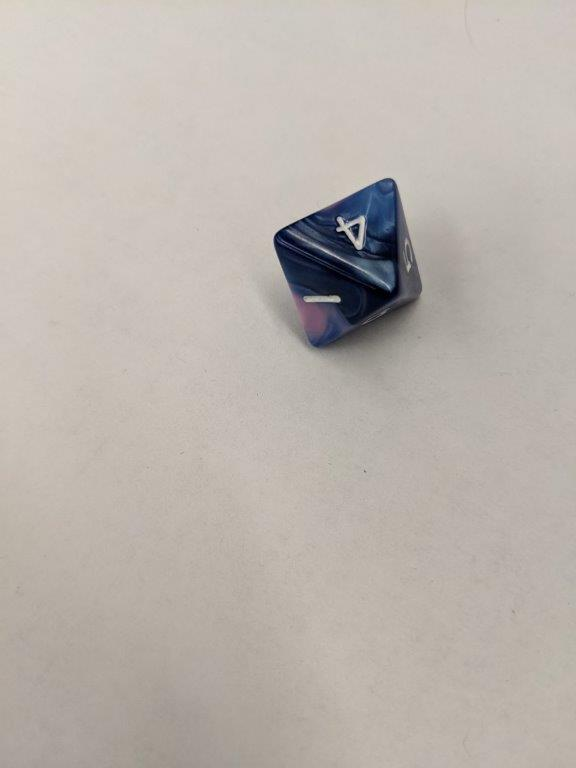d8-4: (275, 177, 422, 350)
